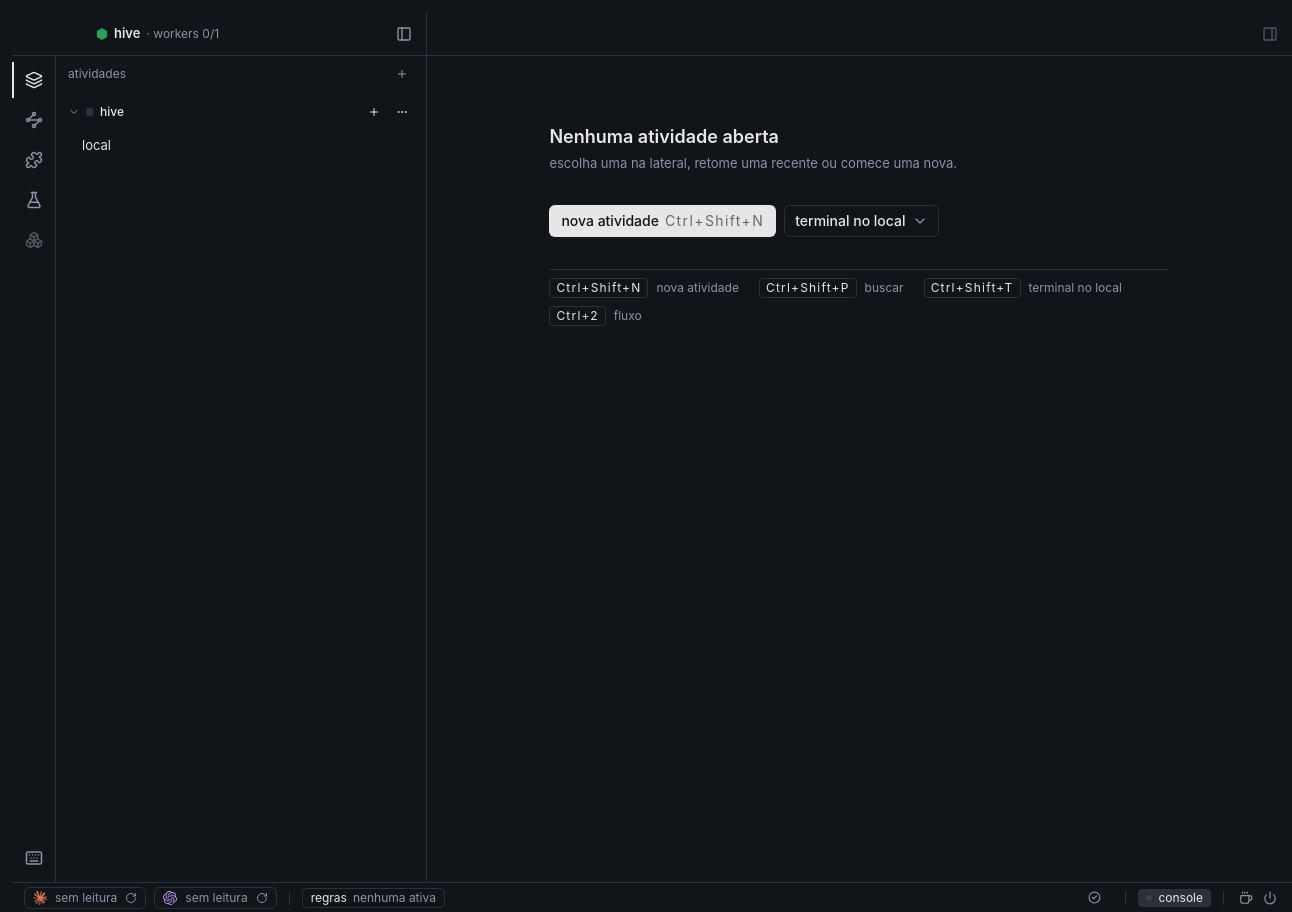
Scenario: with a page open and the center under Atividades the panel shows the selection; back on the flow, the page's task again (#64, #596)
Click the button named "fluxo": (34, 120) [12,102,56,138]
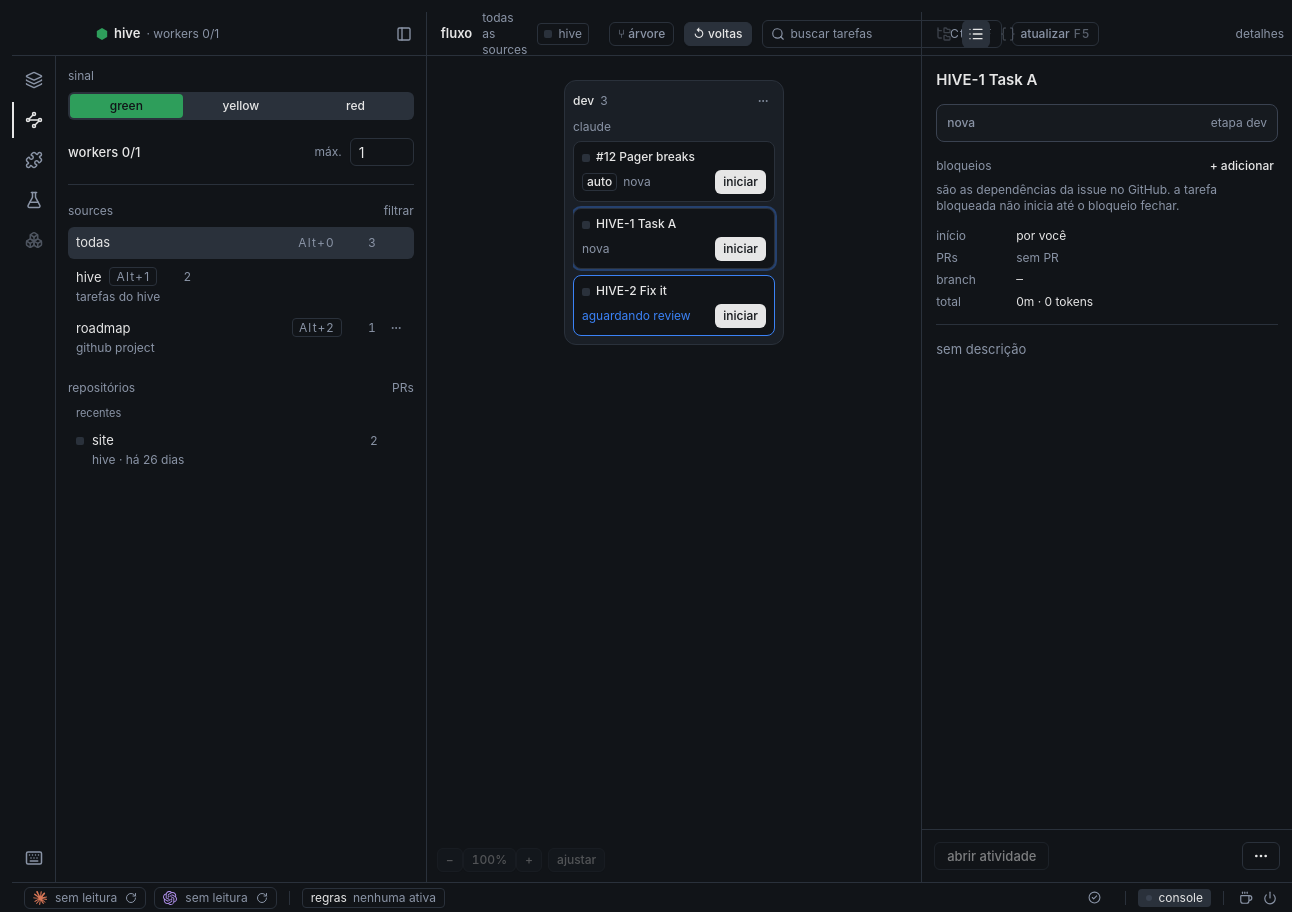
Click the button "site 2 hive · há 26 dias": (138, 459) [68,425,414,474]
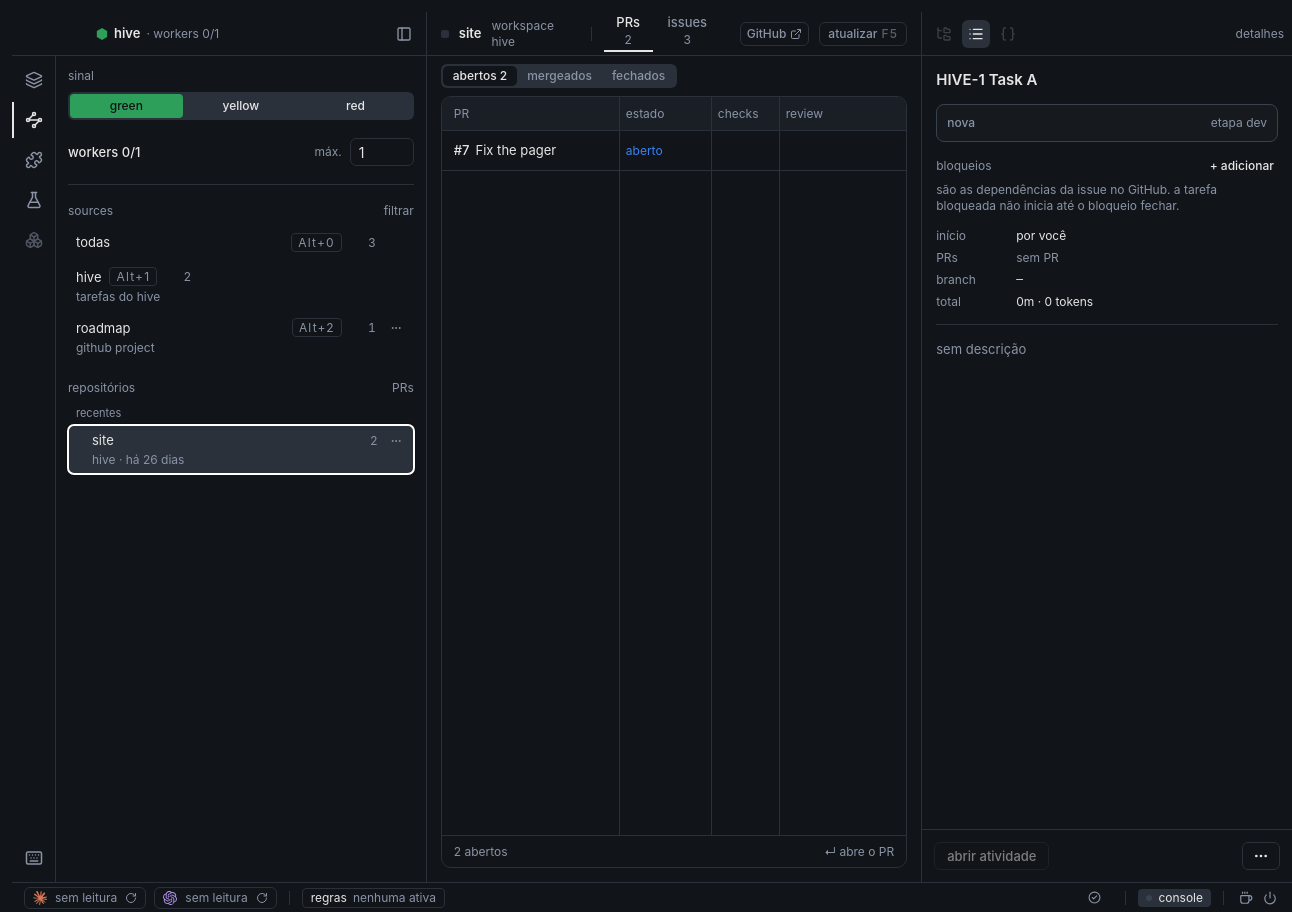
Click the tab "issues 3": (687, 32) [655,12,720,52]
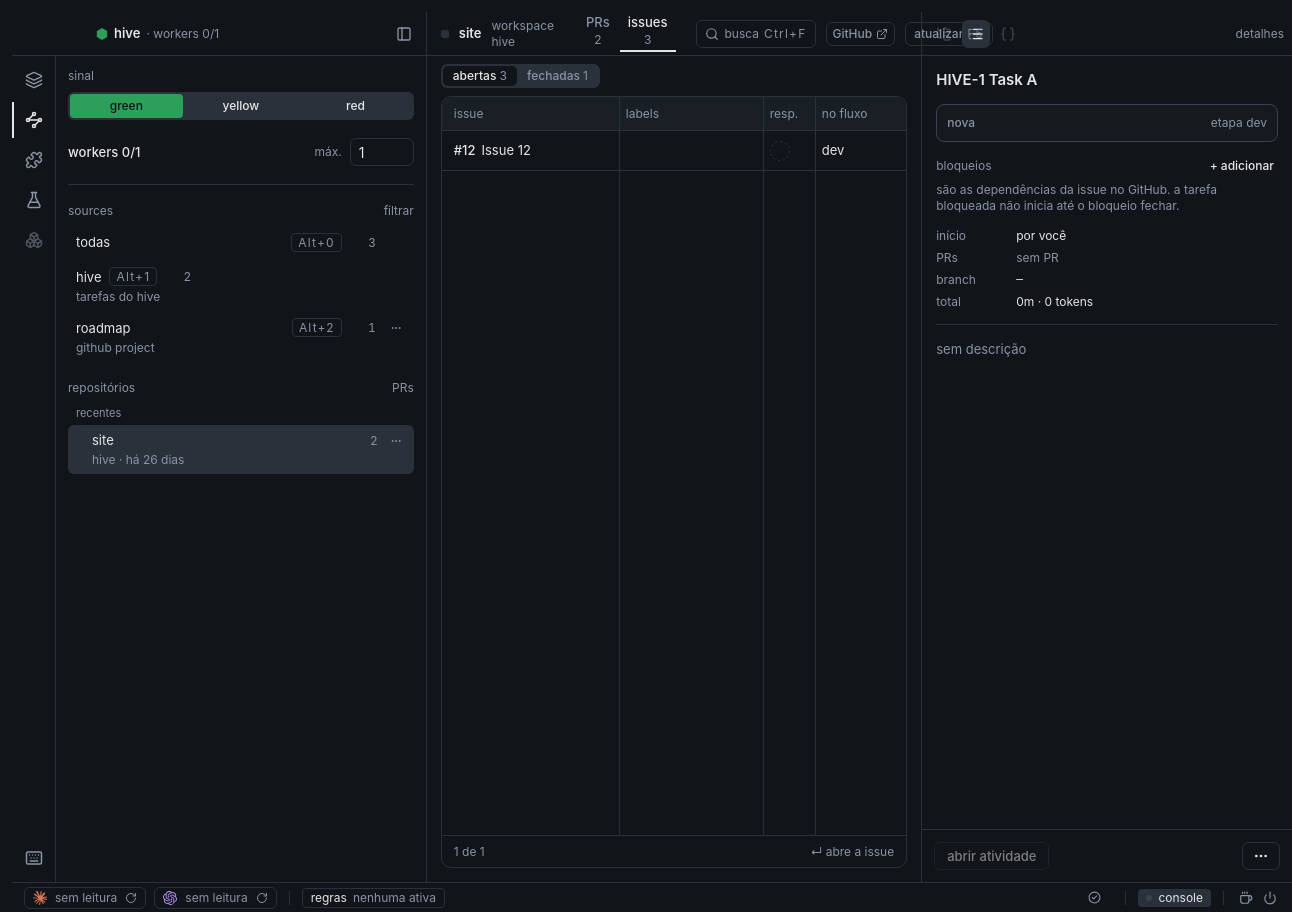
Click the text "Issue 12": (506, 150) [482,141,531,160]
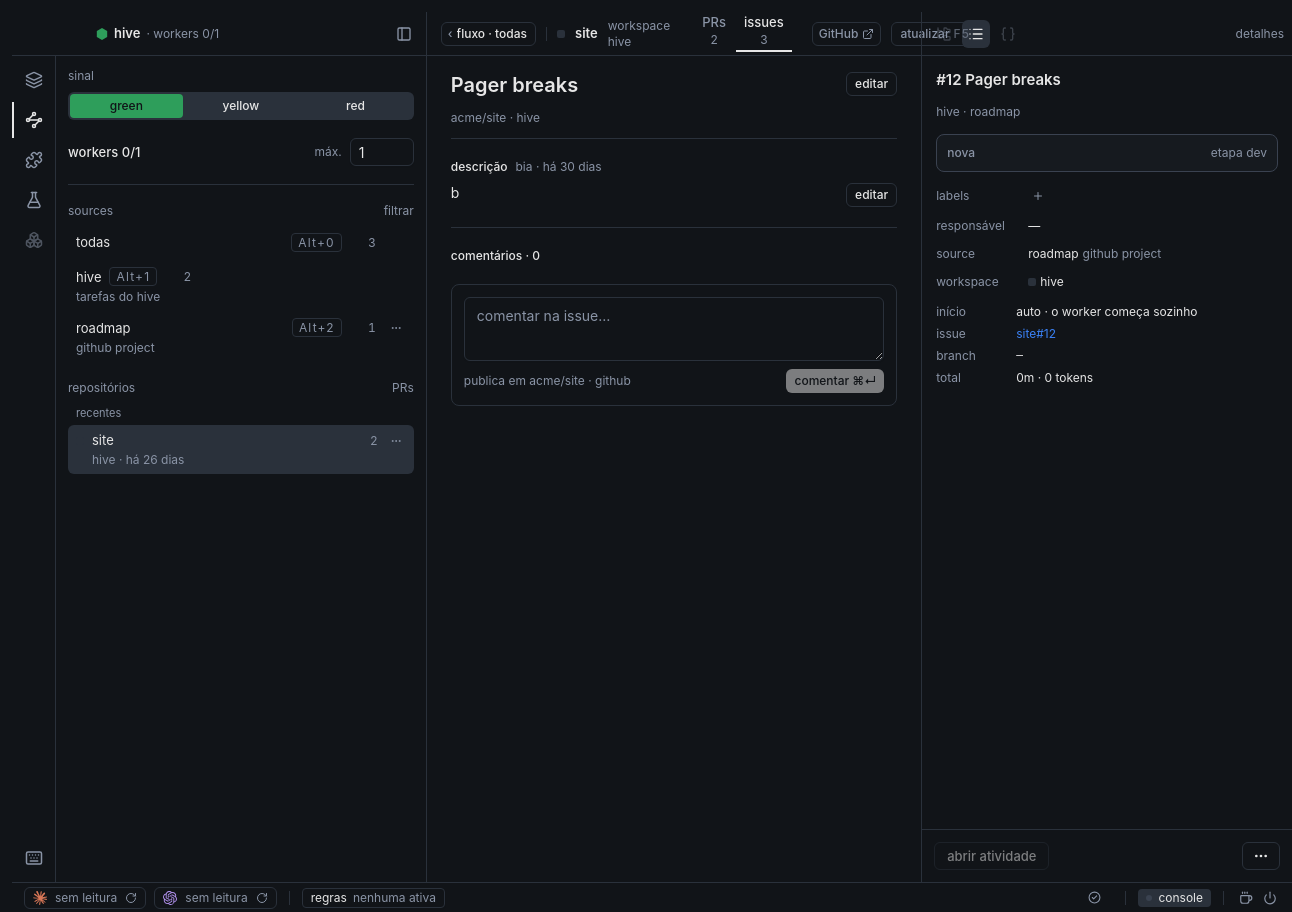
Result: the heading "#12 Pager breaks" is shown at [936,70,1061,89]
Click the button named "atividades": (34, 80) [12,62,56,98]
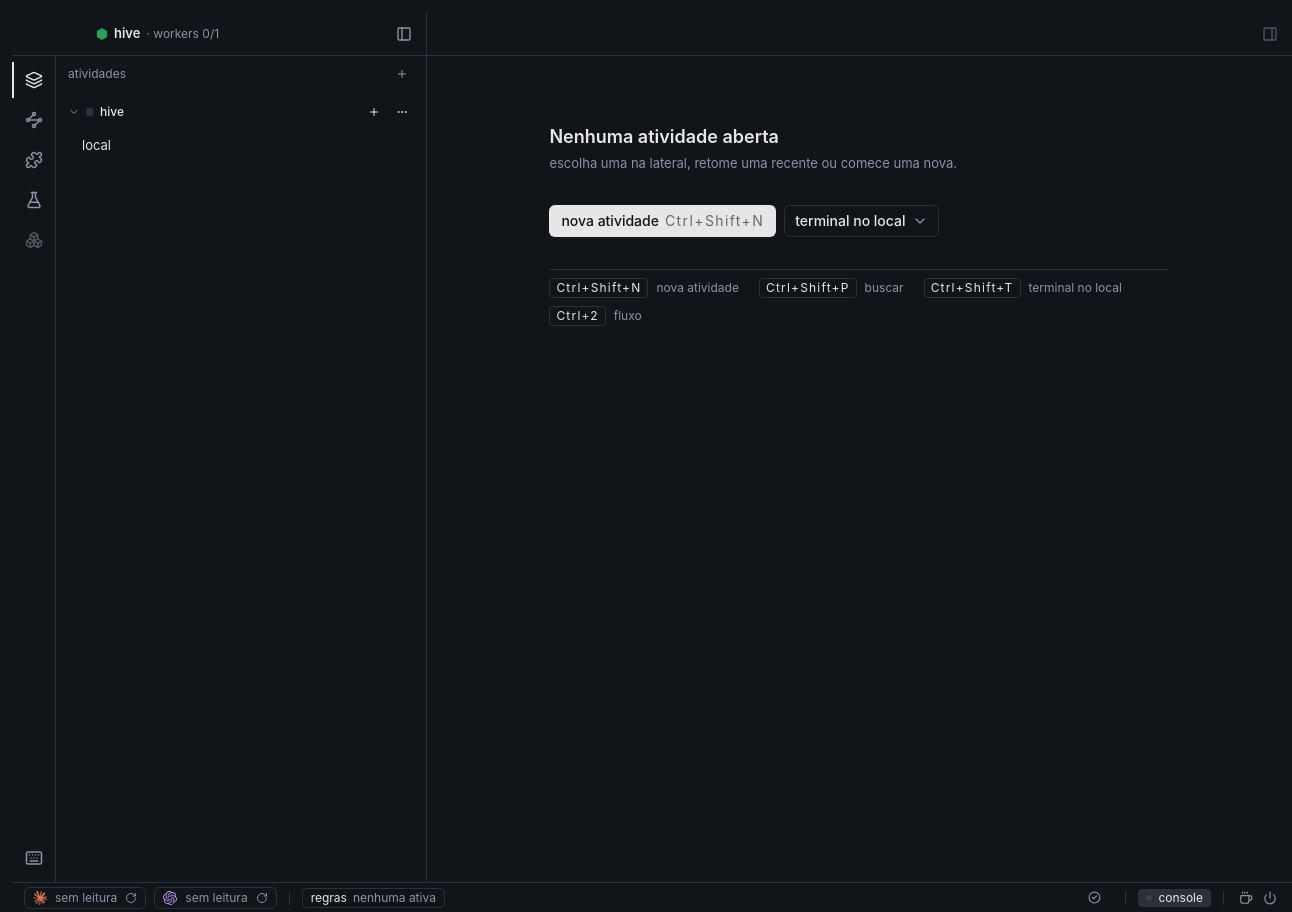
Result: the text "responsável" is gone
Click the button named "fluxo": (34, 120) [12,102,56,138]
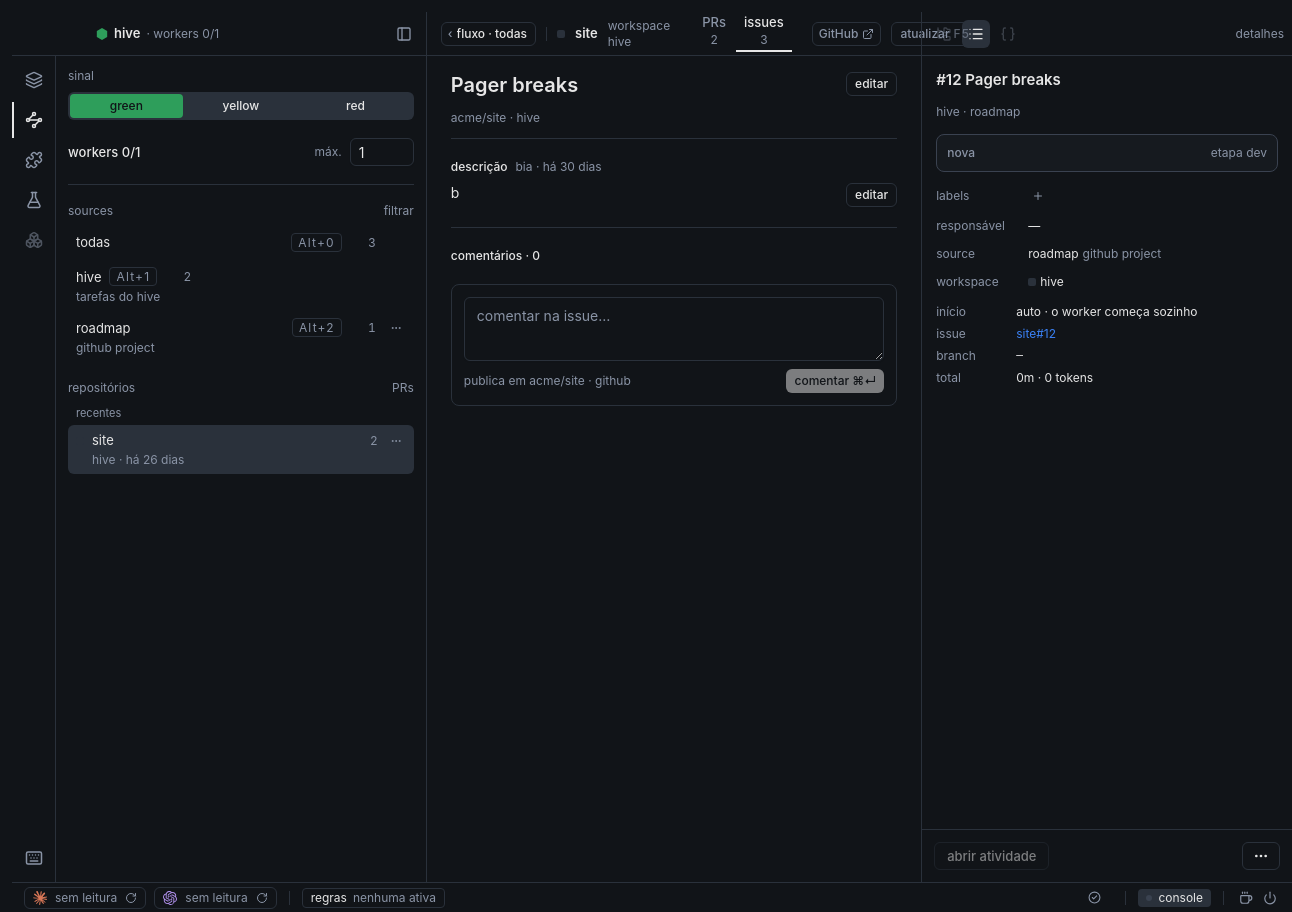
Result: the heading "#12 Pager breaks" is shown at [936,70,1061,89]
Result: the text "responsável" is shown at [936,218,1005,233]
